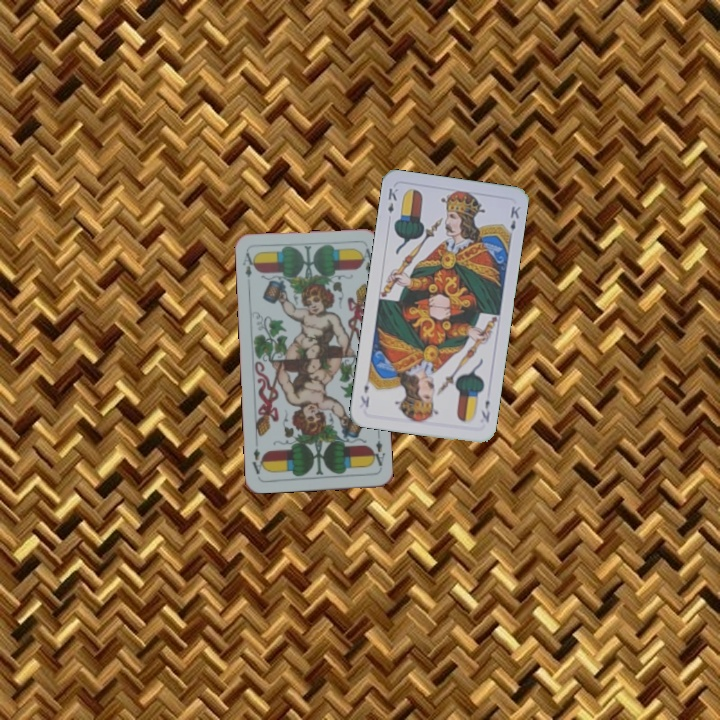EA: (367, 436, 387, 472), (238, 248, 258, 280)
EK: (384, 184, 400, 216), (477, 396, 493, 425)
